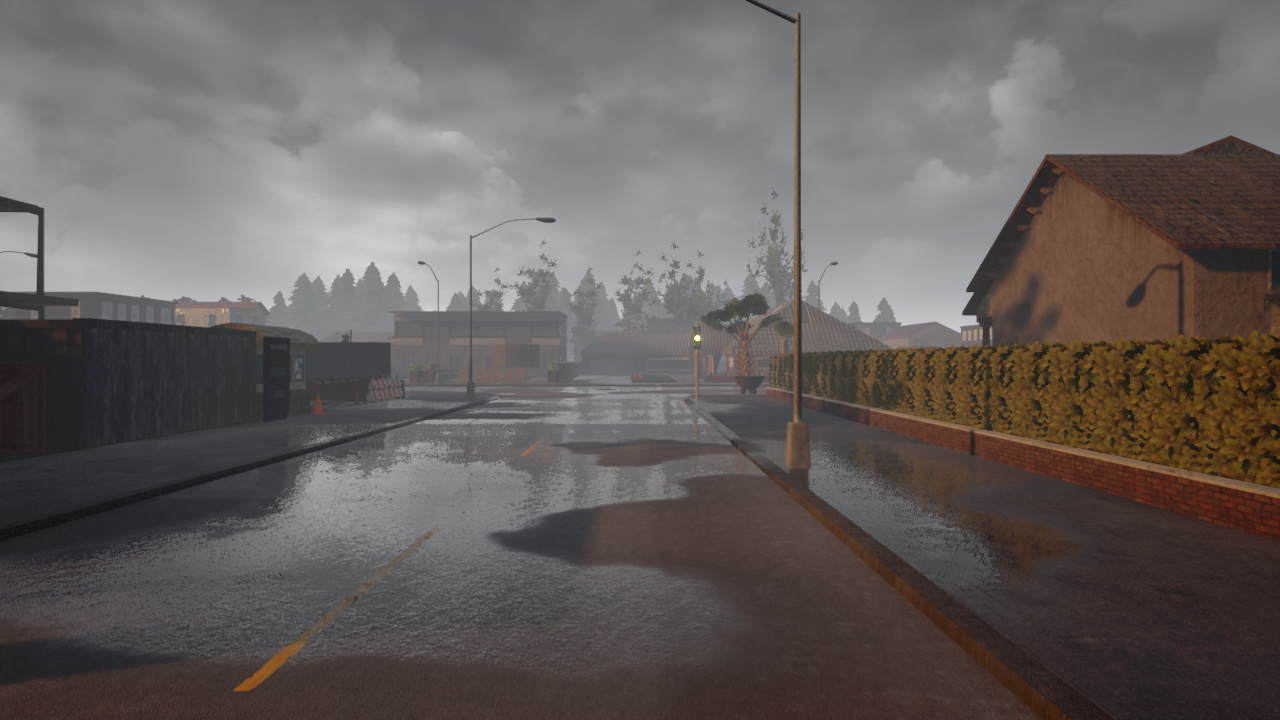yellow: (692, 326, 701, 351)
